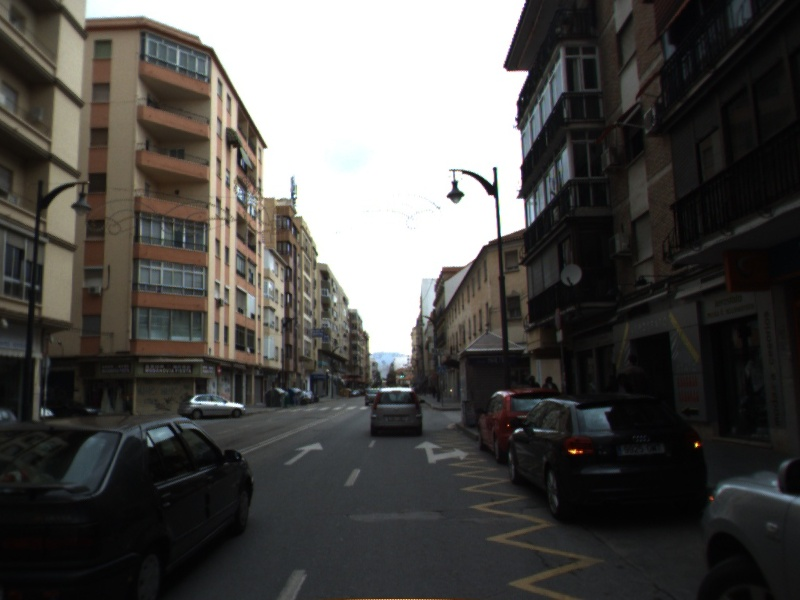STRAIGHT: (282, 440, 325, 467)
STRAIGHT_RIGHT: (412, 439, 471, 466)
